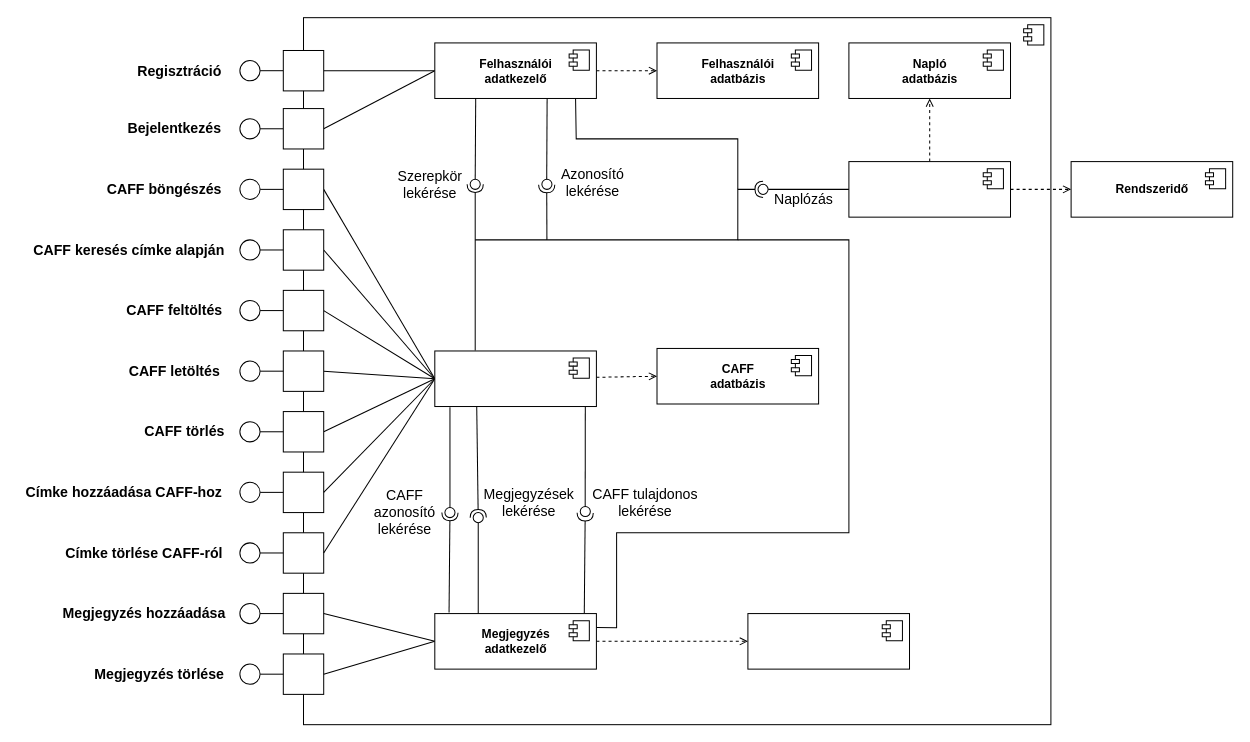
This 1250x742 diagram has some shape labels left out. Each missing label, with the centre of its shape:
"CAFF fájlkezelő" belongs at point (515, 378).
"Megjegyzés adatbázis" belongs at point (828, 641).
"Napló adatkezelő" belongs at point (929, 189).
